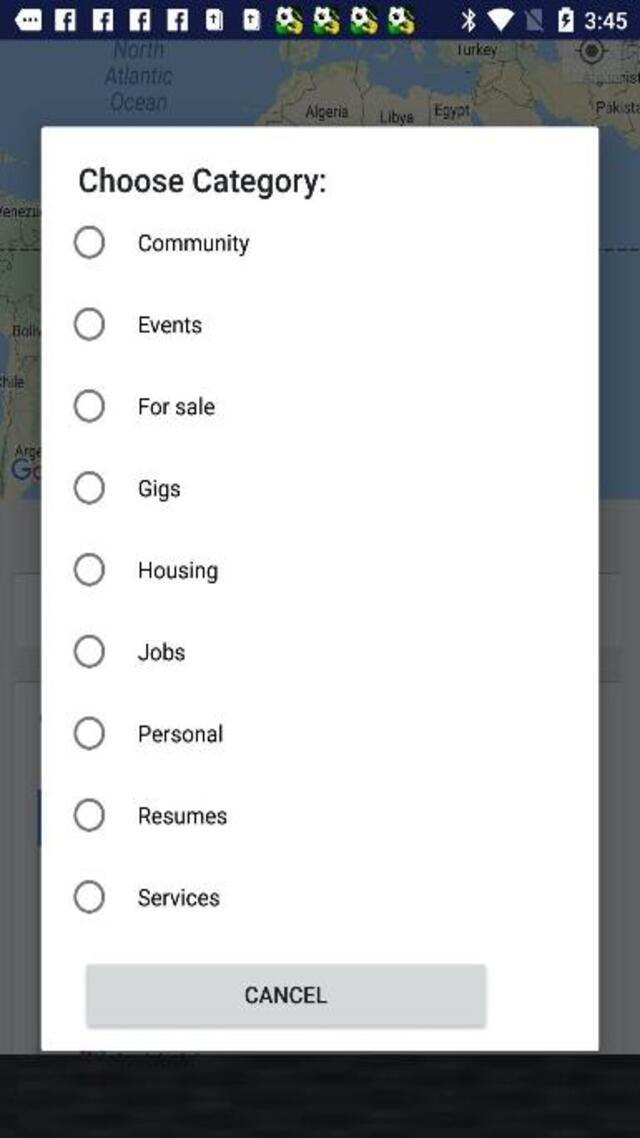CheckedTextView: (74, 225, 248, 259), (73, 798, 226, 831), (74, 879, 219, 913), (74, 716, 222, 749), (75, 552, 218, 586), (74, 390, 214, 422), (74, 306, 202, 340), (74, 635, 184, 667), (74, 471, 180, 503)
Text: (80, 167, 326, 199), (230, 981, 334, 1007), (140, 235, 250, 256), (139, 562, 217, 583), (140, 724, 222, 742), (139, 806, 227, 822), (138, 396, 214, 414), (140, 888, 220, 904), (138, 315, 200, 332), (140, 480, 180, 502), (138, 642, 185, 660)
TextButton: (87, 963, 486, 1029)
